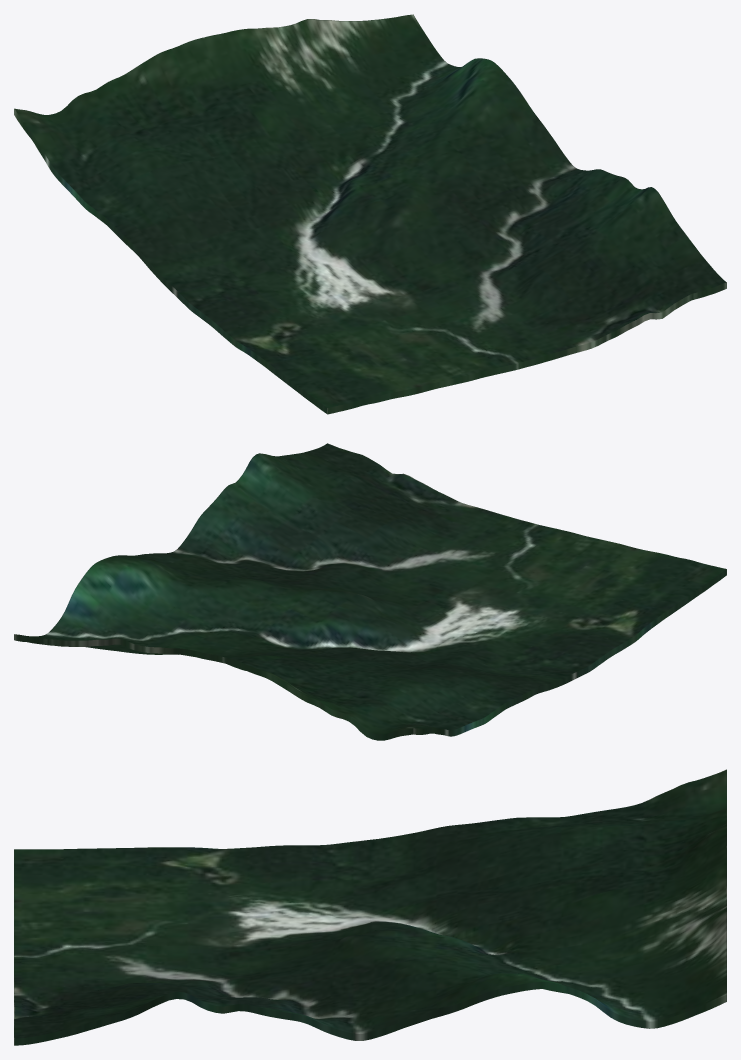
3 renders of one model, top to bottom at view 1: azimuth 30°, elevation 25°; view 2: azimuth 150°, elevation 25°; view 3: azimuth 270°, elevation 25°, orthographic. The views are drawn at different scales.
Parts seen in each view (by area): view 1: tile; view 2: tile; view 3: tile.
Boxes of the visible parts, bbox=[...] form: tile: bbox=[14, 14, 726, 414]; tile: bbox=[14, 443, 726, 740]; tile: bbox=[14, 769, 726, 1045].
Bounding box in the file's own units: 2025 × 499 × 2752.
1 material, 1 textured.
